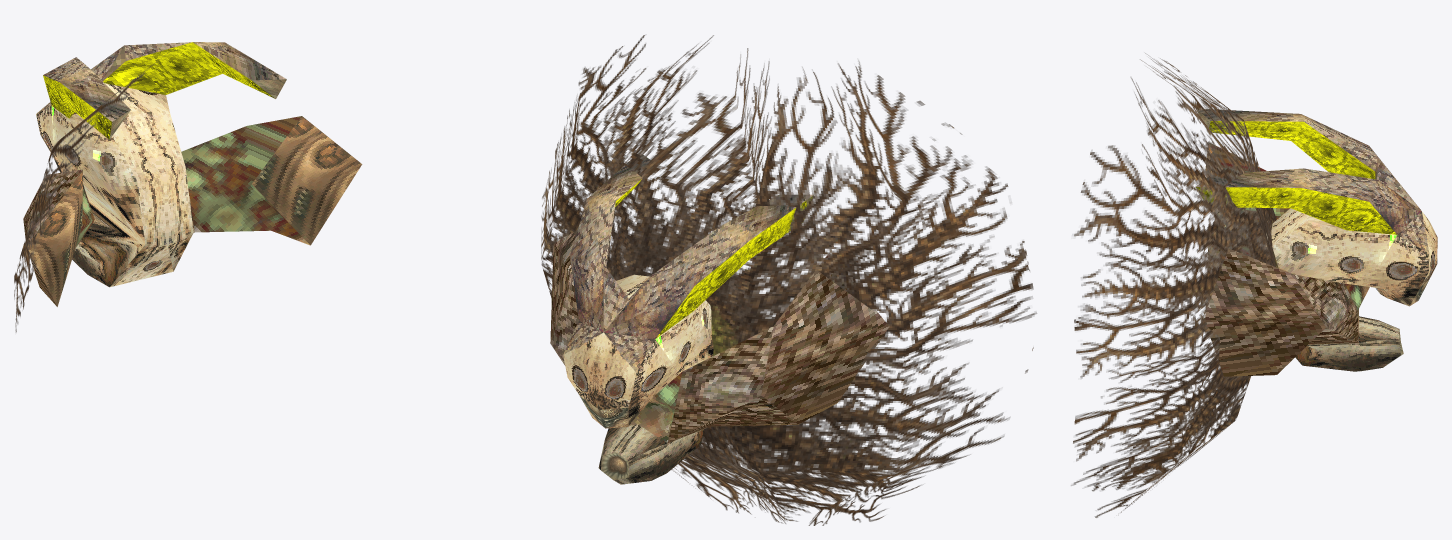
The model's file is mcarrion_cmp.gltf.
The picture shows the model from 3 angles, left to right: view 1: azimuth 30°, elevation 25°; view 2: azimuth 150°, elevation 25°; view 3: azimuth 270°, elevation 25°; orthographic projection. The views are drawn at different scales.
Visible parts, largest first — view 1: Root, roots; view 2: roots, Root; view 3: Root, roots.
Boxes of the visible parts, x1,y1,x2,y2 form: Root: (23, 42, 362, 306); roots: (14, 48, 173, 332); roots: (541, 34, 1037, 525); Root: (550, 152, 889, 484); Root: (1196, 109, 1437, 376); roots: (1071, 53, 1278, 517).
Bounding box in the file's own units: 43.49 × 38.99 × 30.33.
Materials: 7 (7 with a texture image).
